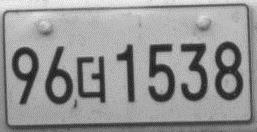1: (111, 42, 145, 103)
3: (178, 42, 211, 103)
5: (146, 42, 177, 103)
6: (43, 44, 75, 106)
8: (211, 39, 245, 101)
9: (10, 45, 40, 105)
더: (75, 53, 108, 104)
